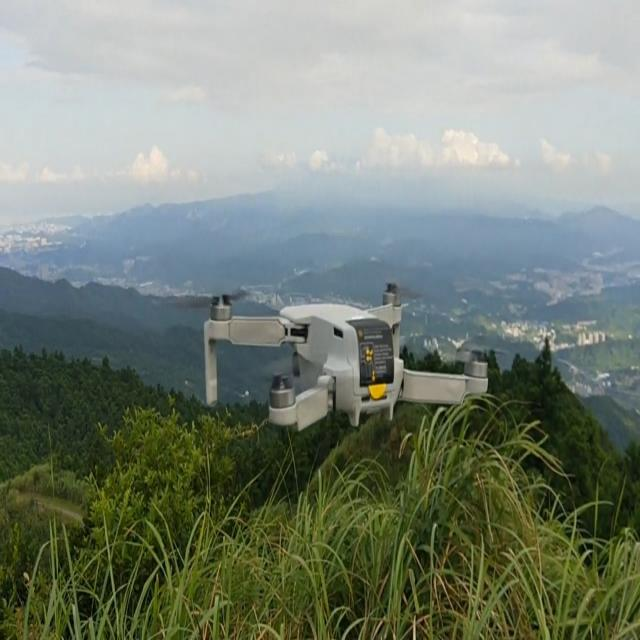Drone: (182, 266, 492, 429)
